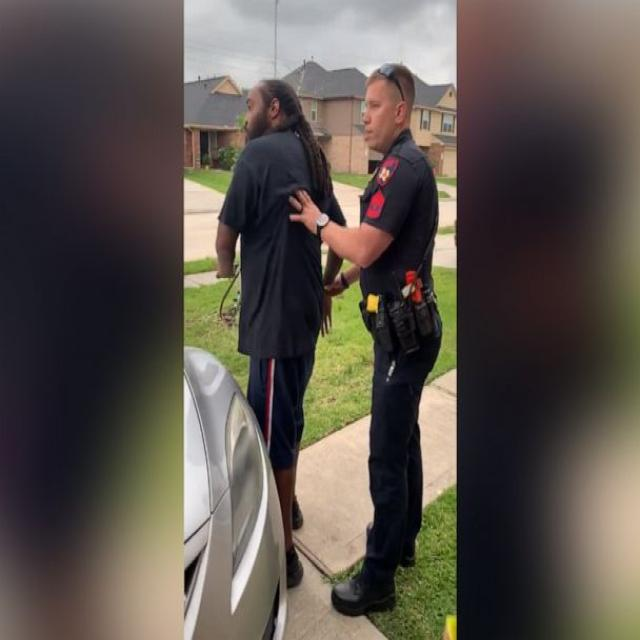police: (323, 39, 442, 640)
